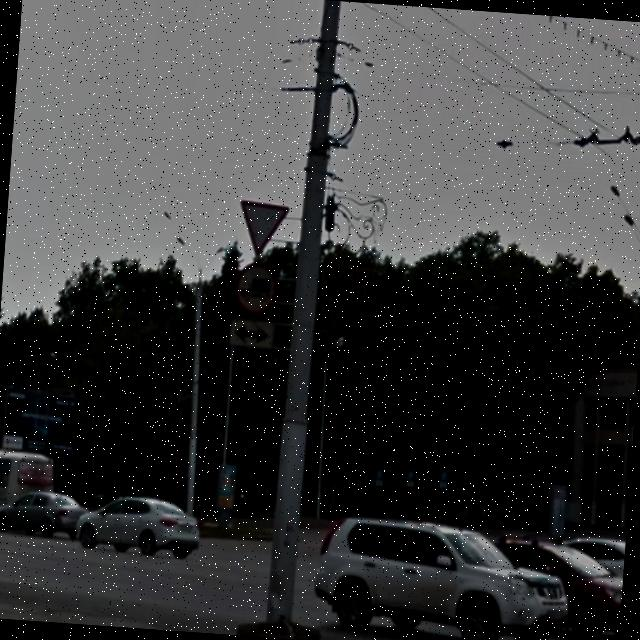Ustap pierwszenstwa: (237, 198, 290, 260)
